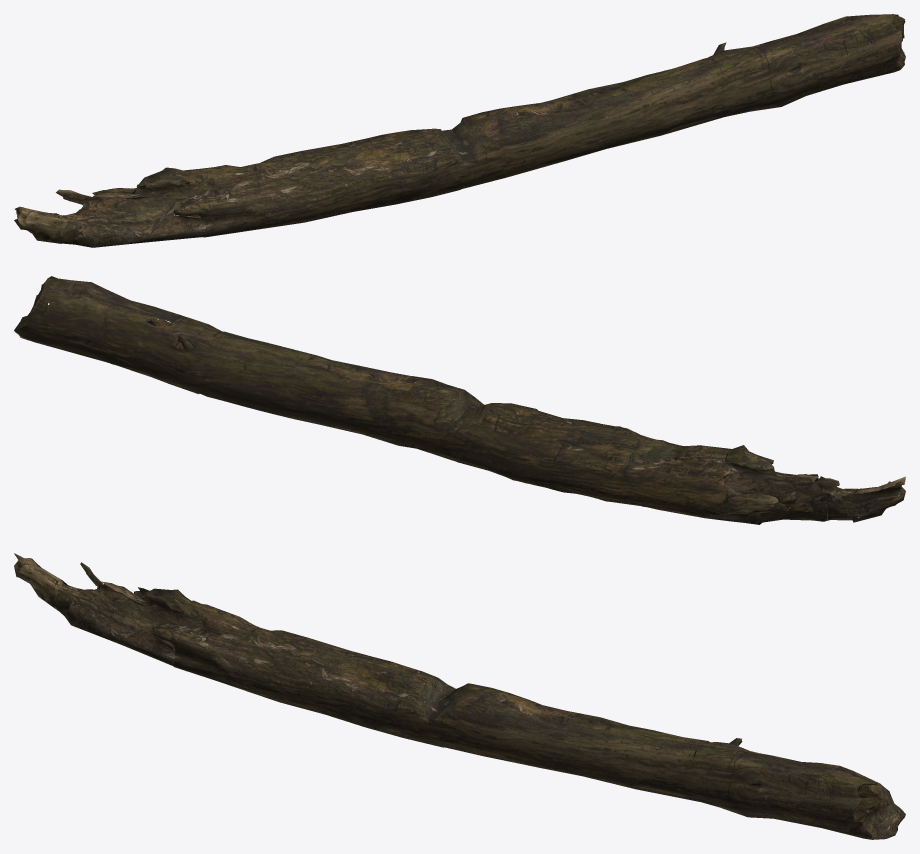
File: dead_tree_trunk.glb
The picture shows the model from 3 angles, top to bottom: view 1: azimuth 30°, elevation 25°; view 2: azimuth 150°, elevation 25°; view 3: azimuth 330°, elevation 25°; orthographic projection.
Parts seen in each view (by area): view 1: dead_tree_trunk; view 2: dead_tree_trunk; view 3: dead_tree_trunk.
Boxes of the visible parts, x1,y1,x2,y2 form: dead_tree_trunk: (14,14,905,247); dead_tree_trunk: (14,276,905,524); dead_tree_trunk: (14,553,905,839).
Size of the model in its own units: 3.05 by 0.2914 by 0.2732.
Materials: 1 (1 with a texture image).
